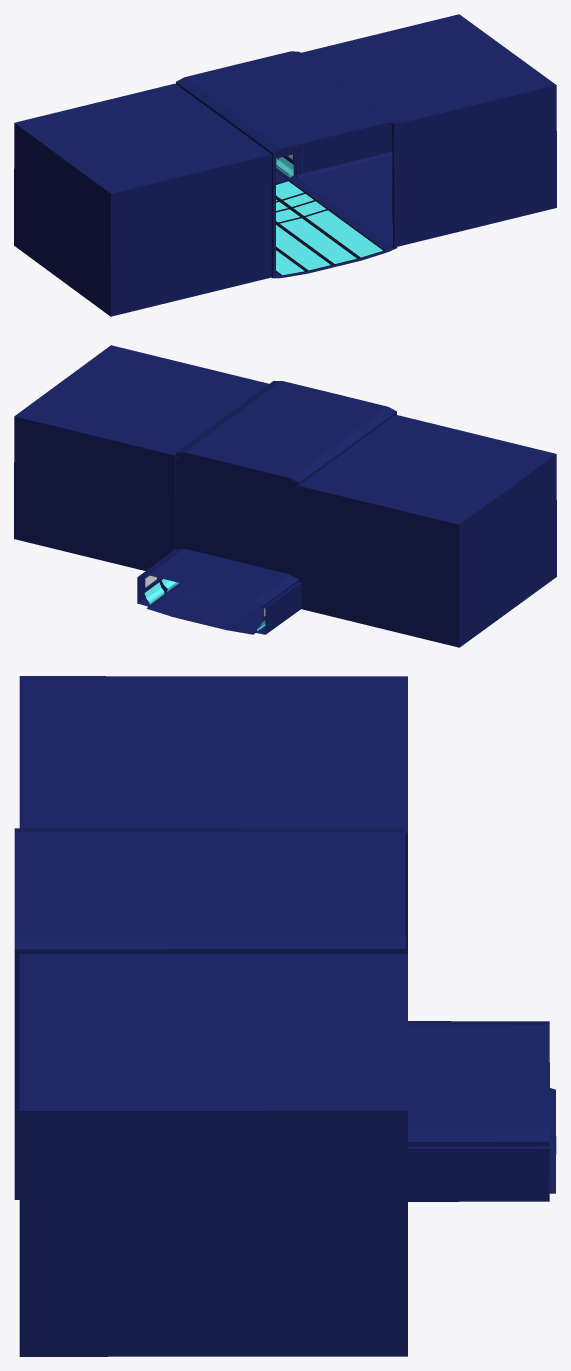
Rendered from blech7it.fbx.
The picture shows the model from 3 angles, top to bottom: view 1: azimuth 30°, elevation 25°; view 2: azimuth 150°, elevation 25°; view 3: azimuth 270°, elevation 25°; orthographic projection. The views are drawn at different scales.
Parts seen in each view (by area): view 1: corridor; view 2: corridor; view 3: corridor.
Boxes of the visible parts, x1,y1,x2,y2 form: corridor: [14, 14, 556, 316]; corridor: [14, 345, 556, 647]; corridor: [14, 676, 556, 1356].
Size of the model in its own units: 37493 by 10630 by 19700.
